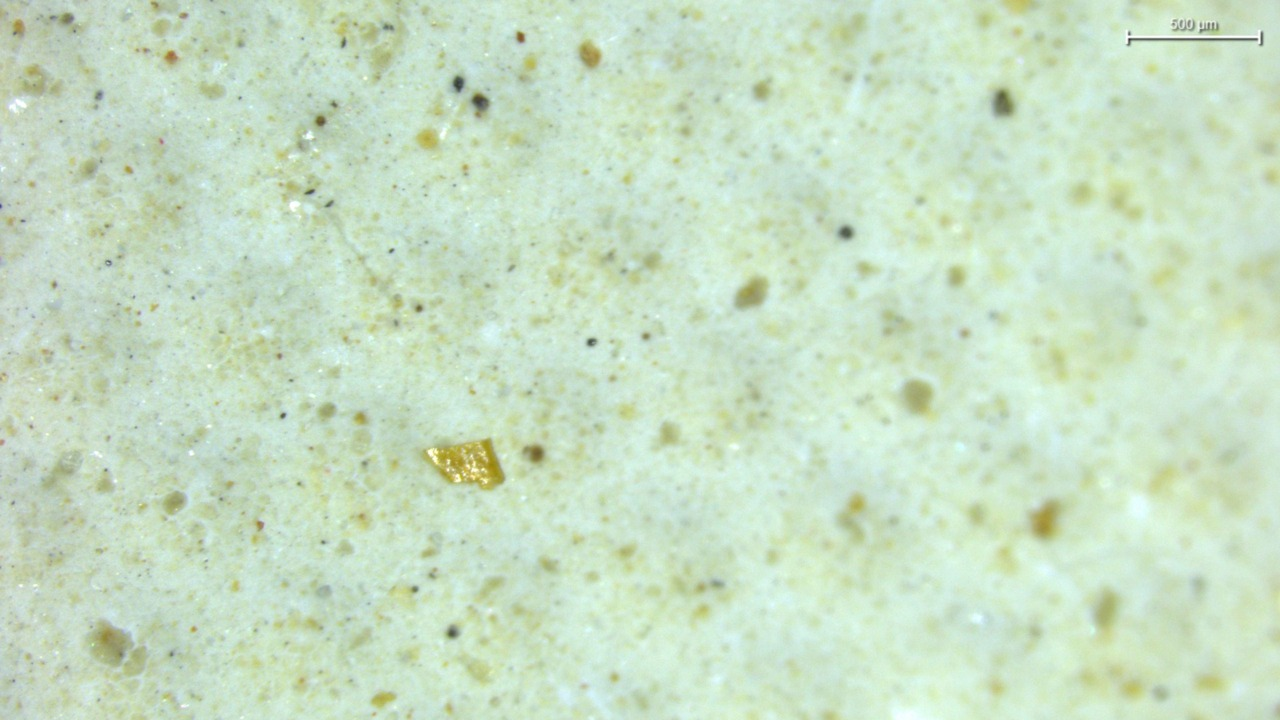microplastic_fragment: (425, 439, 504, 487)
